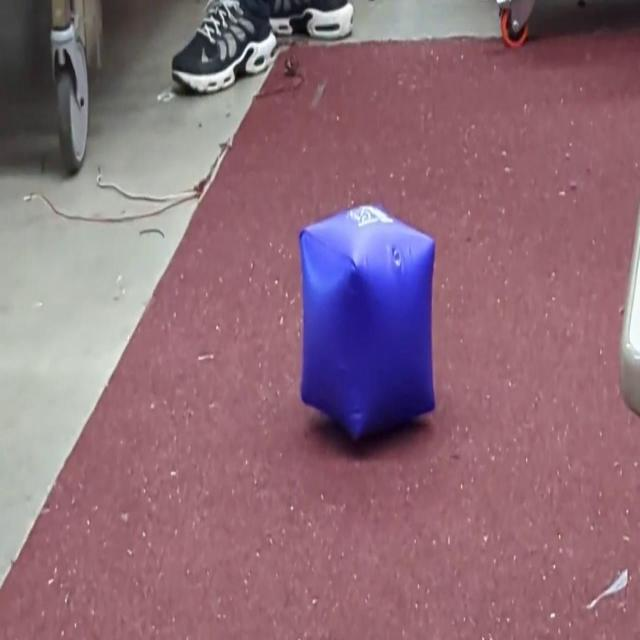frc_cube: (296, 197, 438, 447)
